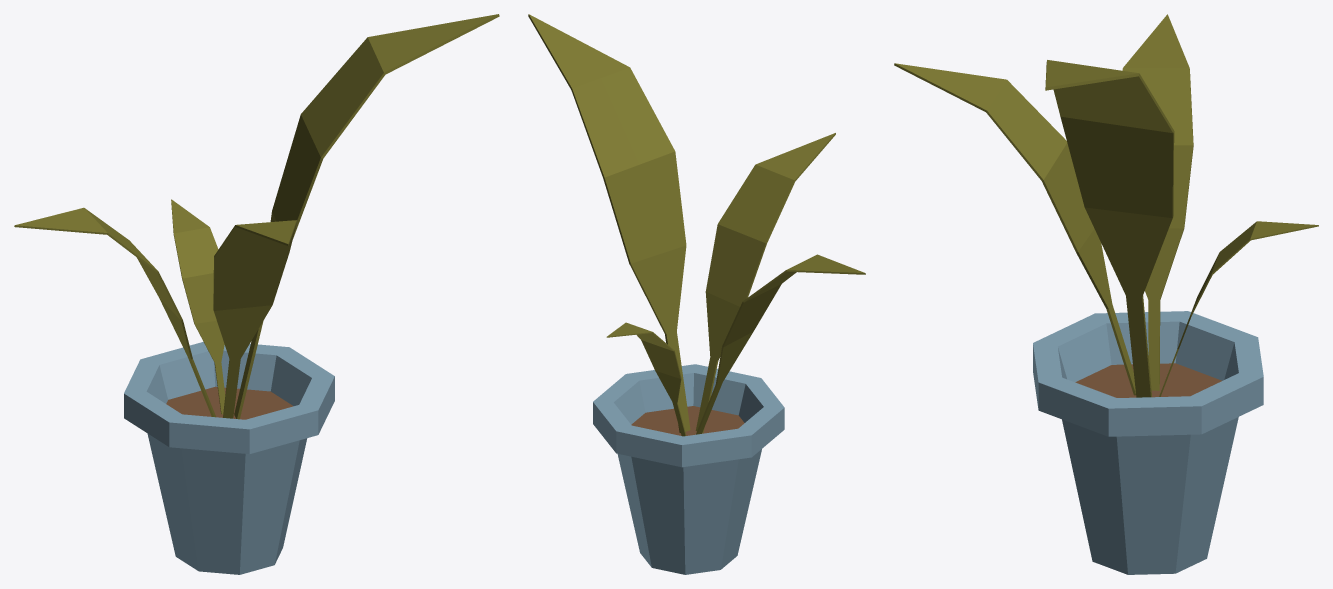
The model's file is Flower_59.fbx.
The picture shows the model from 3 angles, left to right: view 1: azimuth 30°, elevation 25°; view 2: azimuth 150°, elevation 25°; view 3: azimuth 270°, elevation 25°; orthographic projection. The views are drawn at different scales.
Visible parts, largest first — view 1: Flower_59; view 2: Flower_59; view 3: Flower_59.
Part boxes in pixels (box(x1,y1,x2,y2)): Flower_59: box(14, 14, 499, 574); Flower_59: box(528, 14, 865, 574); Flower_59: box(894, 14, 1318, 574).
Bounding box in the file's own units: 77.52 × 58.18 × 88.69.
